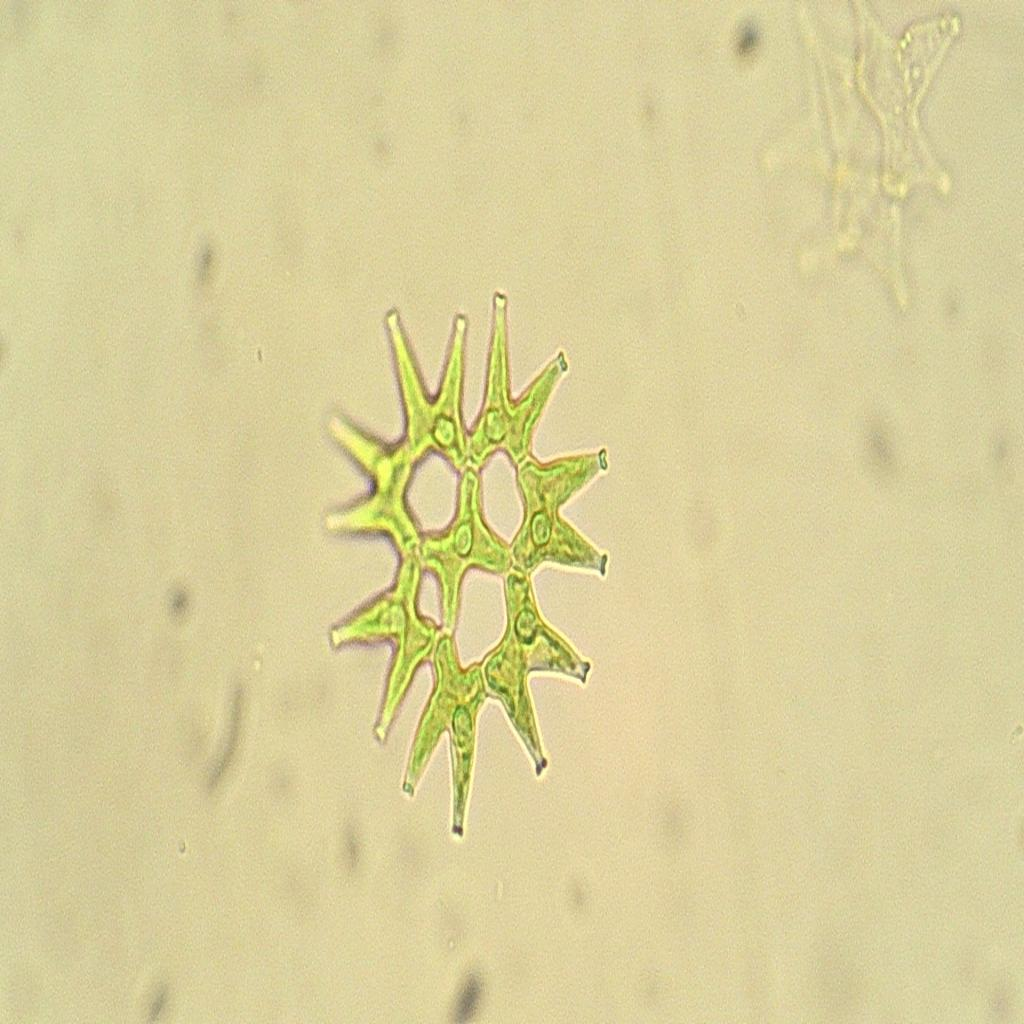Pediastrum_1T: (296, 277, 631, 857)
